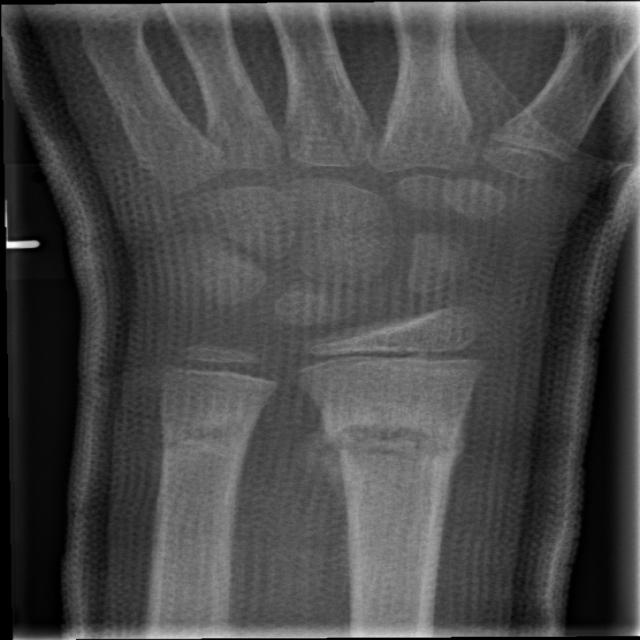radius fracture: (292, 395, 496, 523)
ulna fracture: (133, 394, 284, 526)
